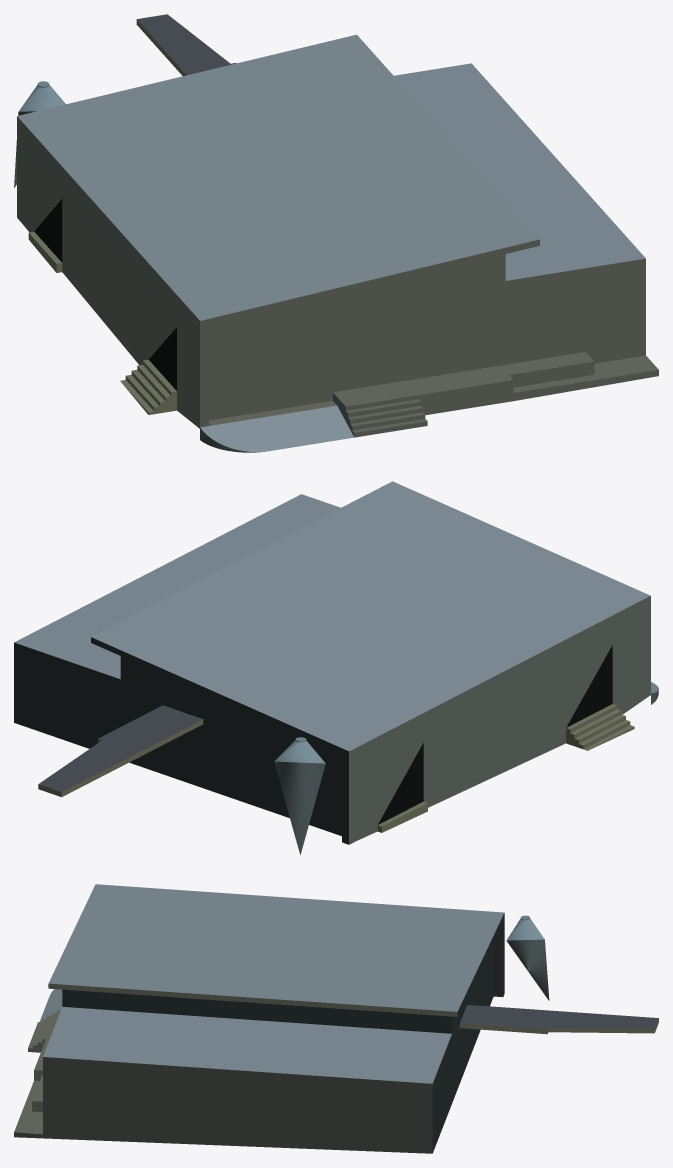
Rendered from outdoor-chattanooga.glb.
The picture shows the model from 3 angles, top to bottom: view 1: azimuth 30°, elevation 25°; view 2: azimuth 150°, elevation 25°; view 3: azimuth 270°, elevation 25°; orthographic projection. The views are drawn at different scales.
Visible parts, largest first — view 1: LOD0; view 2: LOD0; view 3: LOD0.
Part boxes in pixels (x1,y1,x2,y2): LOD0: [14, 14, 658, 452]; LOD0: [14, 481, 658, 854]; LOD0: [14, 884, 658, 1153].
Size of what is drawn, in the model's own units: 28.82 by 8.08 by 40.32.
Materials: 1 (1 with a texture image).
